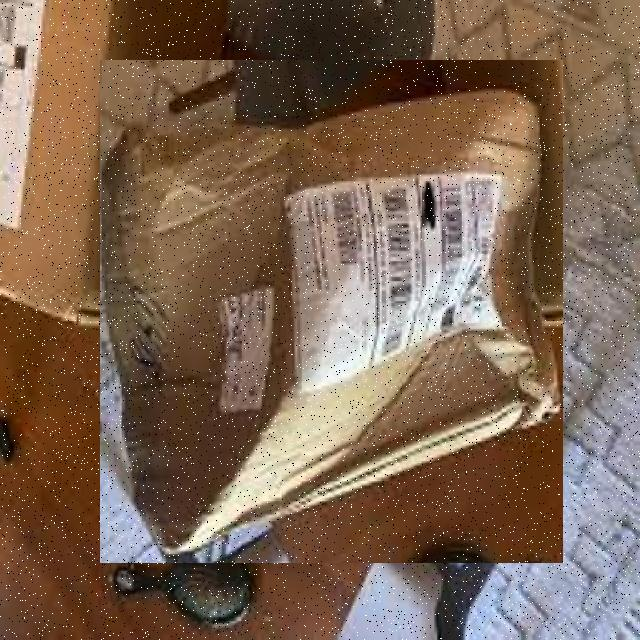defect: (100, 60, 563, 563)
